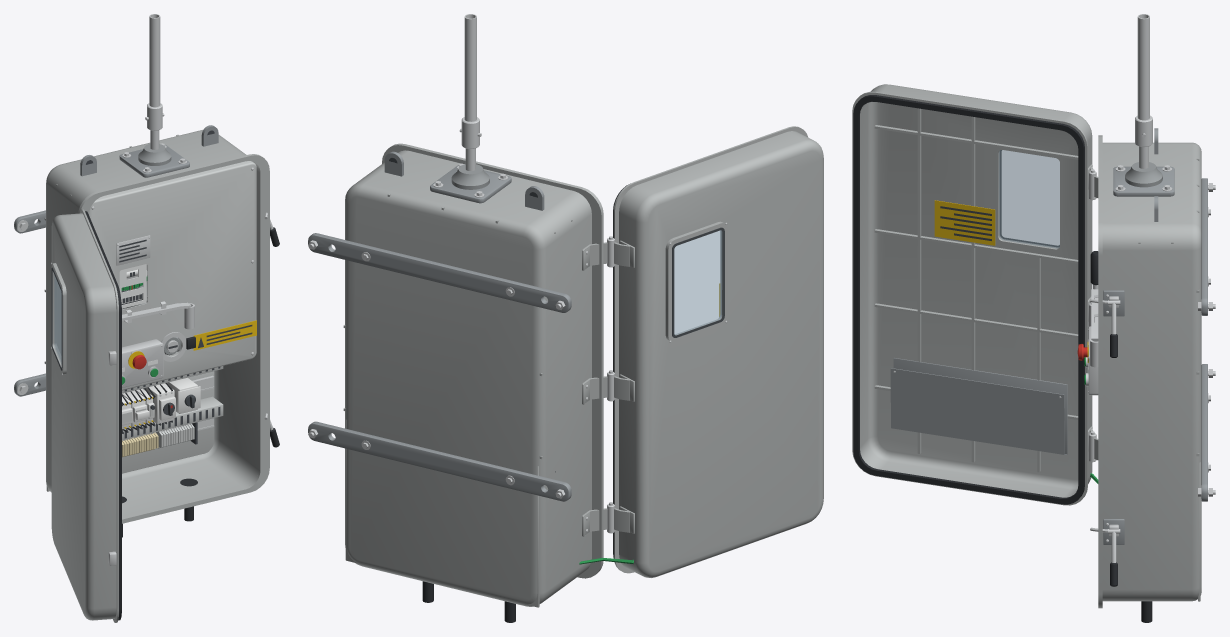
File: cma7.glb
3 renders of one model, left to right at view 1: azimuth 30°, elevation 25°; view 2: azimuth 150°, elevation 25°; view 3: azimuth 270°, elevation 25°, orthographic. The views are drawn at different scales.
Parts seen in each view (by area): view 1: cma7-door, cma7-cover, cma7-housing, cma7-plate, cma7-local, cma7-shaft, cma7-window, vshaft, cma7-terminals, cma7-safety, cma7-mount, cma7-s38 (+6 smaller); view 2: cma7-housing, cma7-door, cma7-mount, cma7-window, cma7-shaft, vshaft, cma7-lug; view 3: cma7-door, cma7-housing, cma7-pocket, cma7-window, cma7-label, cma7-shaft, cma7-mount, vshaft, cma7-latch, cma7-crank, cma7-local.
Boxes of the visible parts, x1=… form: cma7-door: x1=51, y1=209, x2=121, y2=622; cma7-cover: x1=89, y1=161, x2=256, y2=390; cma7-housing: x1=44, y1=130, x2=269, y2=523; cma7-plate: x1=46, y1=351, x2=223, y2=491; cma7-local: x1=122, y1=339, x2=163, y2=387; cma7-shaft: x1=119, y1=130, x2=189, y2=177; cma7-window: x1=51, y1=262, x2=66, y2=375; vshaft: x1=145, y1=14, x2=164, y2=130; cma7-terminals: x1=122, y1=422, x2=197, y2=457; cma7-safety: x1=193, y1=320, x2=256, y2=350; cma7-mount: x1=14, y1=210, x2=45, y2=396; cma7-s38: x1=167, y1=377, x2=200, y2=413; cma7-housing: x1=343, y1=143, x2=603, y2=606; cma7-door: x1=579, y1=126, x2=823, y2=577; cma7-mount: x1=308, y1=233, x2=571, y2=501; cma7-window: x1=665, y1=221, x2=727, y2=342; cma7-shaft: x1=430, y1=148, x2=511, y2=203; vshaft: x1=459, y1=14, x2=481, y2=148; cma7-lug: x1=384, y1=151, x2=544, y2=210; cma7-door: x1=852, y1=84, x2=1098, y2=505; cma7-housing: x1=1098, y1=135, x2=1201, y2=608; cma7-pocket: x1=890, y1=358, x2=1067, y2=454; cma7-window: x1=998, y1=150, x2=1059, y2=248; cma7-label: x1=934, y1=200, x2=995, y2=245; cma7-shaft: x1=1113, y1=146, x2=1174, y2=196; cma7-mount: x1=1201, y1=178, x2=1210, y2=501; vshaft: x1=1135, y1=14, x2=1152, y2=146; cma7-latch: x1=1090, y1=290, x2=1124, y2=586; cma7-crank: x1=1090, y1=251, x2=1098, y2=367; cma7-local: x1=1077, y1=326, x2=1098, y2=395.
Bounding box in the file's own units: 0.96 × 1.57 × 0.8862.
